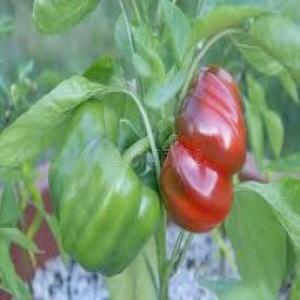bell_pepper: (46, 128, 166, 284), (165, 64, 247, 242)
